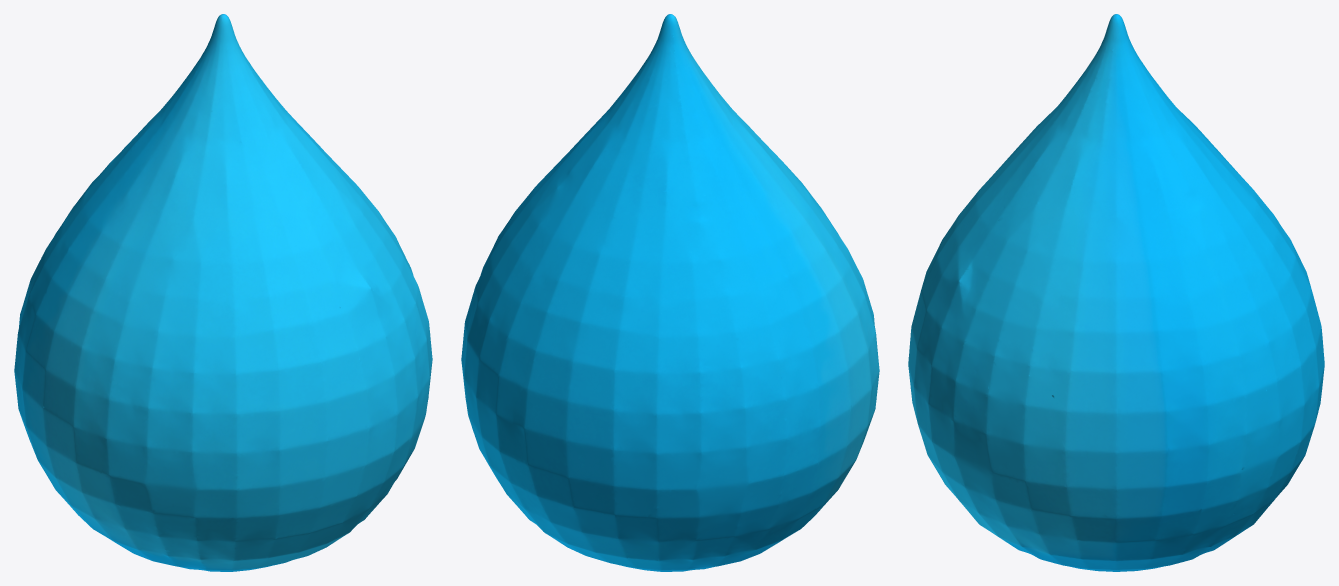
The model's file is water-droplet.glb.
The picture shows the model from 3 angles, left to right: view 1: azimuth 30°, elevation 25°; view 2: azimuth 150°, elevation 25°; view 3: azimuth 270°, elevation 25°; orthographic projection.
Size of the model in its own units: 1.33 by 1.9 by 1.33.
1 material, 1 textured.
